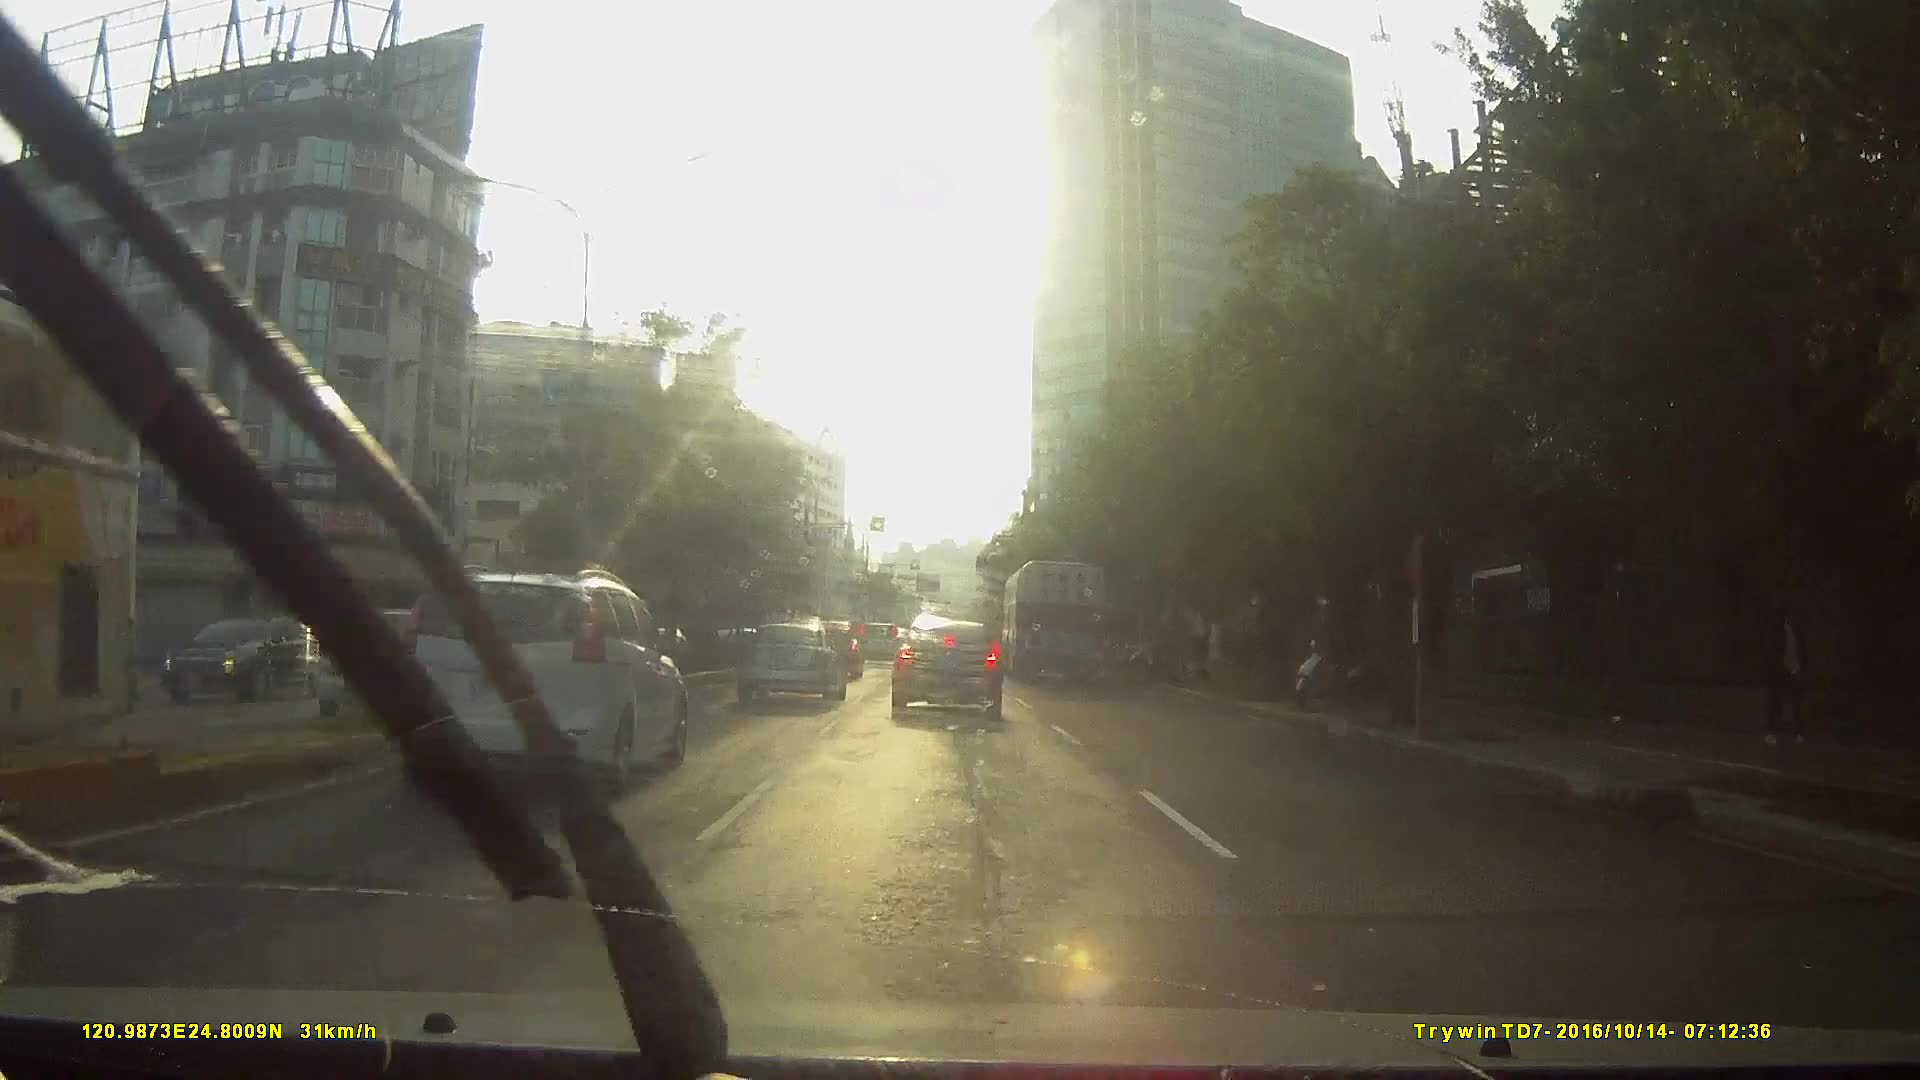pedestrian: (1748, 589, 1820, 752)
vehicle: (250, 556, 684, 868), (385, 563, 684, 790), (298, 602, 492, 720), (153, 612, 344, 705), (1002, 554, 1110, 683), (887, 610, 1003, 716), (731, 615, 842, 700), (852, 615, 901, 664)
